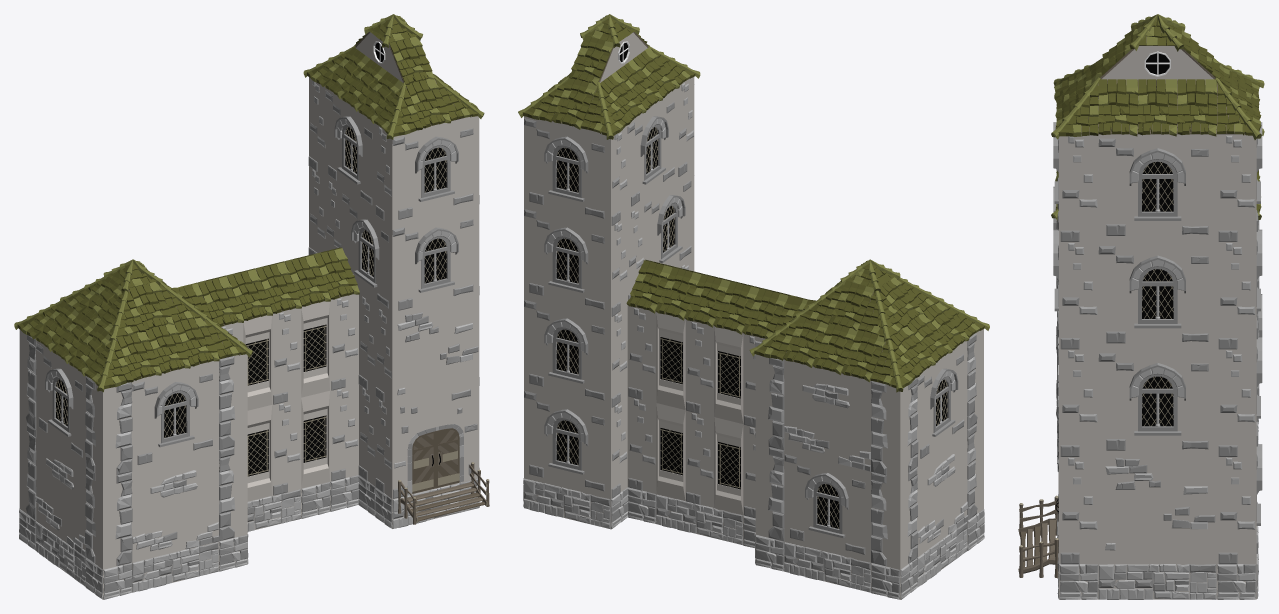
The model's file is House_11.glb.
The picture shows the model from 3 angles, left to right: view 1: azimuth 30°, elevation 25°; view 2: azimuth 150°, elevation 25°; view 3: azimuth 270°, elevation 25°; orthographic projection. The views are drawn at different scales.
Visible parts, largest first — view 1: WALL_01_2, WALL_03_4, WINDOW_03_19, WINDOW_03_17, WINDOW_03_18, DOOR_02_3, WINDOW_03_21, WALL_03_2, WINDOW_03_27, WINDOW_03_20, WALL_06_10, WALL_06_6 (+60 smaller); view 2: WINDOW_03_26, WALL_03_3, WINDOW_03_25, WINDOW_03_24, WINDOW_03_23, WINDOW_03_22, WALL_03_2, WINDOW_03_21, WINDOW_03_27, WINDOW_03_20, WALL_06_16, WALL_05_7 (+57 smaller); view 3: WALL_01_3, WINDOW_03_29, WINDOW_03_28, WINDOW_03_30, FOUNDATION_03_9, WALL_06_26, WALL_06_29, WALL_06_25, WALL_06_30, WALL_06_27, WALL_06_35, WALL_06_36 (+25 smaller).
Boxes of the visible parts, x1,y1,x2,y2 form: WALL_01_2: [392, 296, 479, 407]; WALL_03_4: [132, 450, 219, 562]; WINDOW_03_19: [392, 116, 479, 225]; WINDOW_03_17: [132, 361, 218, 471]; WINDOW_03_18: [392, 205, 479, 316]; DOOR_02_3: [392, 387, 479, 498]; WINDOW_03_21: [325, 88, 375, 213]; WALL_03_2: [35, 430, 86, 556]; WINDOW_03_27: [36, 340, 86, 465]; WINDOW_03_20: [342, 190, 394, 316]; WALL_06_10: [272, 398, 301, 495]; WALL_06_6: [272, 308, 301, 404]; WINDOW_03_26: [784, 450, 871, 562]; WALL_03_3: [784, 360, 871, 471]; WINDOW_03_25: [524, 387, 611, 498]; WINDOW_03_24: [524, 296, 610, 407]; WINDOW_03_23: [524, 205, 610, 316]; WINDOW_03_22: [524, 116, 611, 225]; WALL_03_2: [917, 430, 968, 556]; WINDOW_03_21: [627, 88, 677, 213]; WINDOW_03_27: [917, 341, 967, 465]; WINDOW_03_20: [644, 165, 694, 267]; WALL_06_16: [627, 396, 656, 493]; WALL_05_7: [871, 472, 900, 569]; WALL_01_3: [1098, 456, 1216, 563]; WINDOW_03_29: [1098, 241, 1216, 348]; WINDOW_03_28: [1098, 349, 1216, 456]; WINDOW_03_30: [1098, 134, 1216, 241]; FOUNDATION_03_9: [1098, 563, 1216, 599]; WALL_06_26: [1059, 349, 1098, 456]; WALL_06_29: [1059, 241, 1098, 349]; WALL_06_25: [1059, 456, 1098, 564]; WALL_06_30: [1217, 241, 1256, 349]; WALL_06_27: [1217, 349, 1256, 456]; WALL_06_35: [1059, 134, 1098, 241]; WALL_06_36: [1217, 134, 1256, 241].
Bounding box in the file's own units: 13.41 × 15.66 × 6.24.
1 material, 1 textured.
